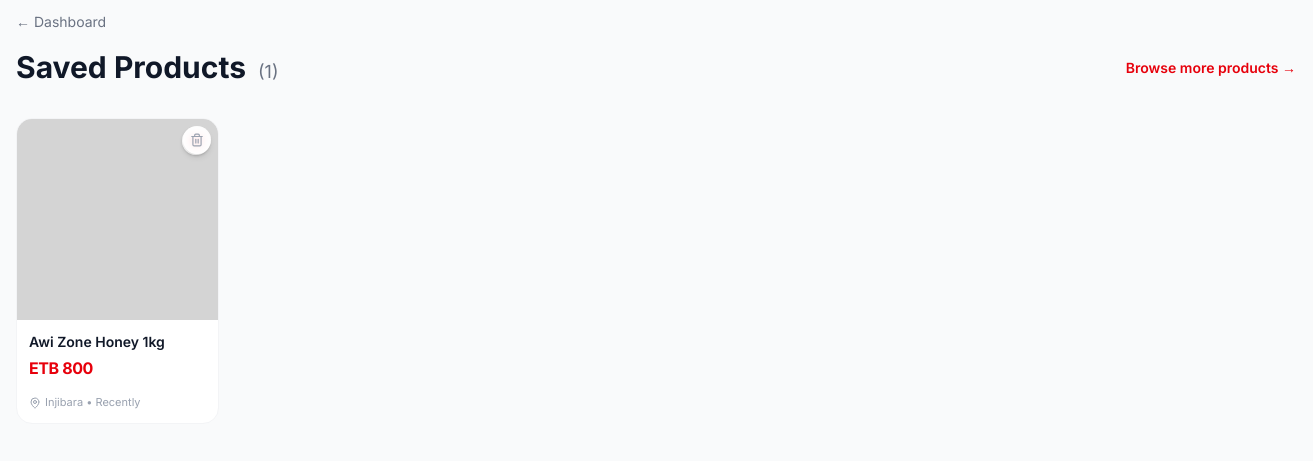
Test case: CustomerSavedPage › renders saved products list and removes product on delete click
Expected: the heading "Awi Zone Honey 1kg" is shown, [29, 332, 165, 352]
Expected: the heading "Saved Products(1)" is shown, [16, 49, 278, 86]
Step 1. Click the button named "remove from saved" → (197, 140), box [183, 126, 211, 154]
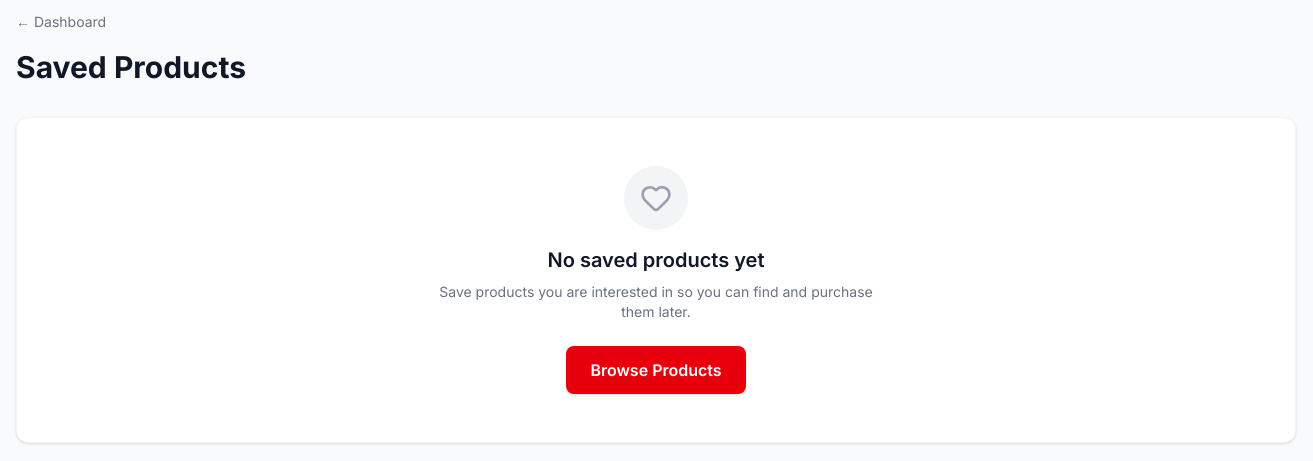
Expected: the heading "No saved products yet" is shown, [548, 248, 764, 272]
